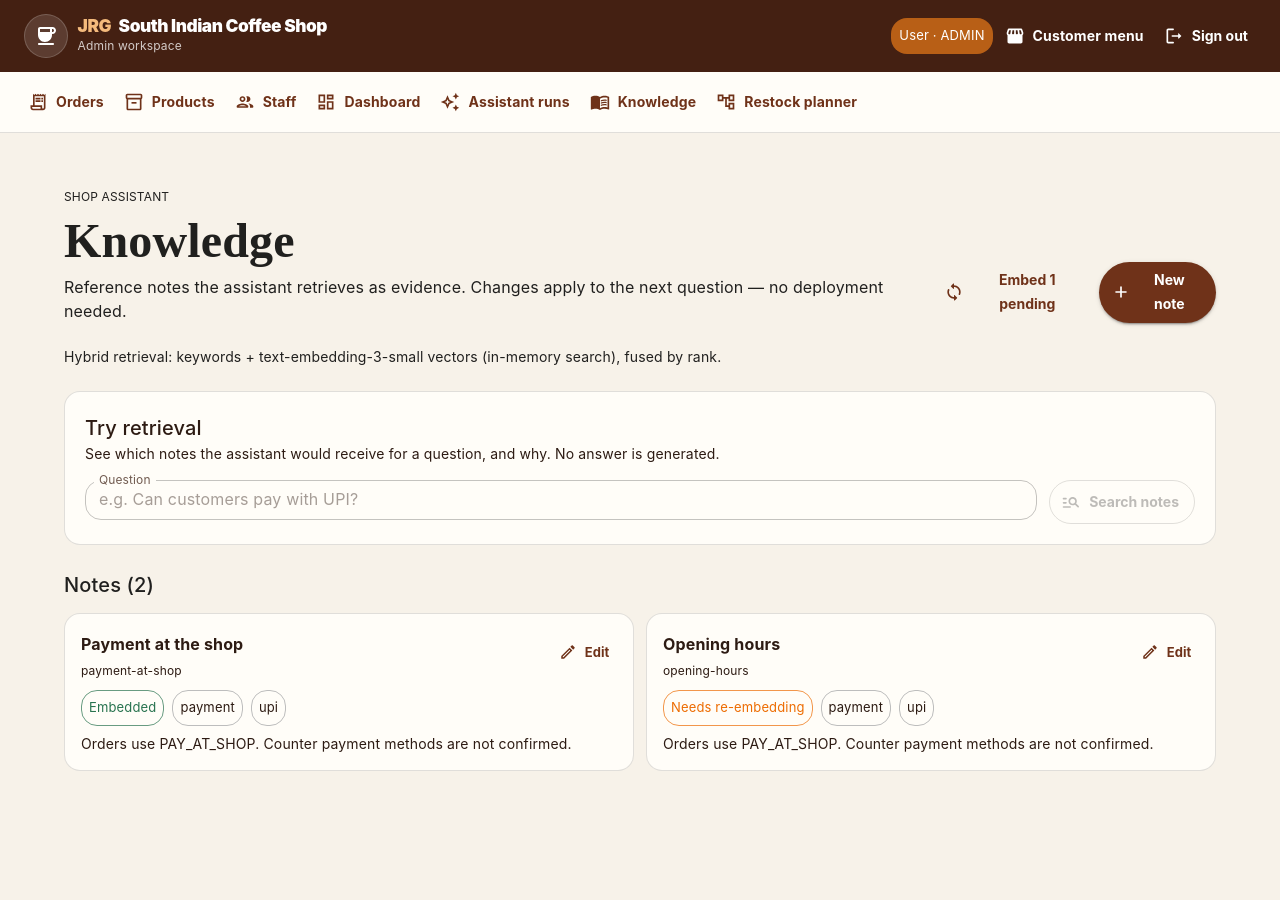
Test case: admin knowledge base › explains which notes a question retrieves and why
In the field labelled "Question": (561, 500) [85,480,1037,520], type "  Do we take UPI? "
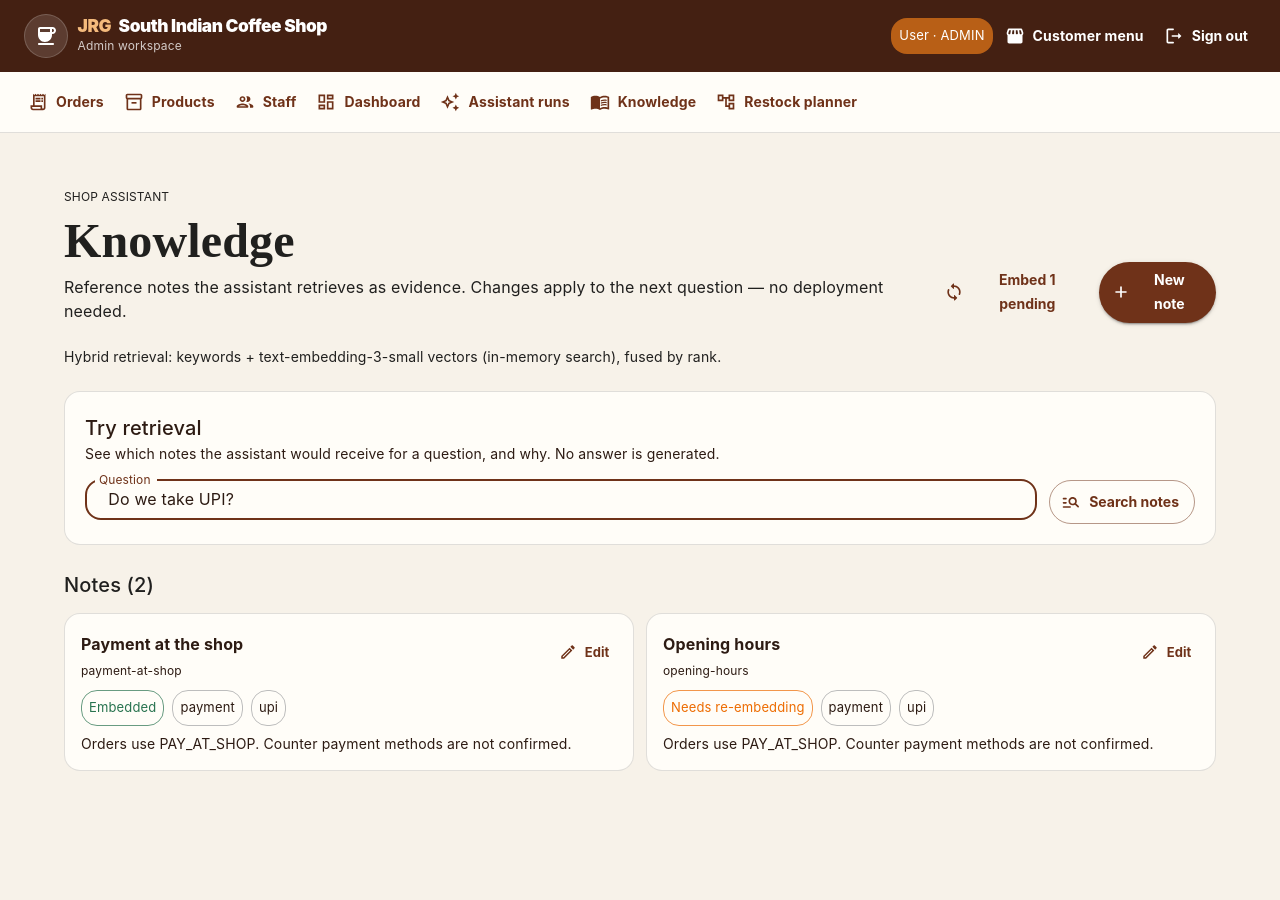
Click the button "Search notes": (1122, 502) [1049,480,1195,524]
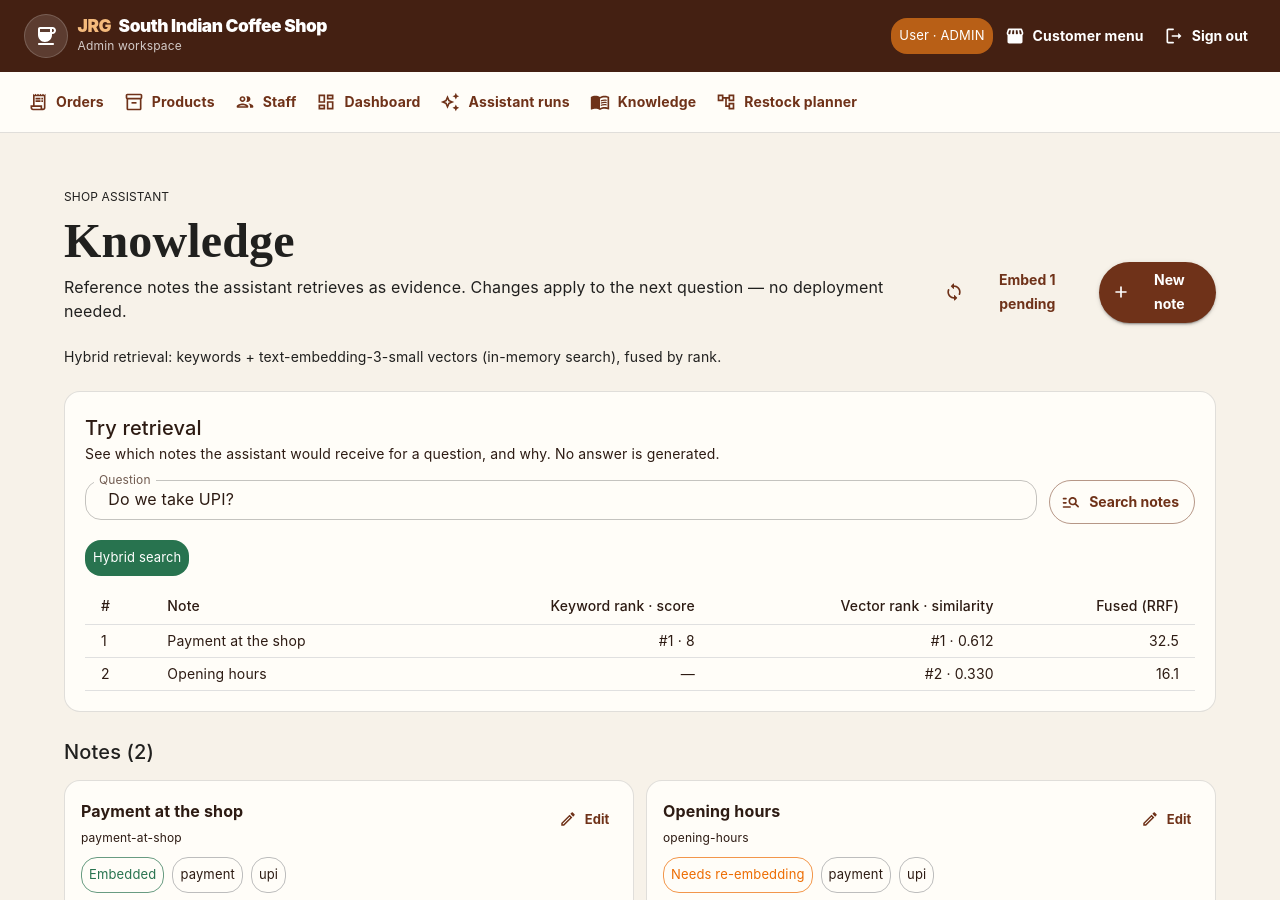
Now the text "#1 · 8" is shown, box [426,624,711,658]
Now the text "#1 · 0.612" is shown, box [711,624,1010,658]
Now the text "32.5" is shown, box [1010,624,1195,658]
